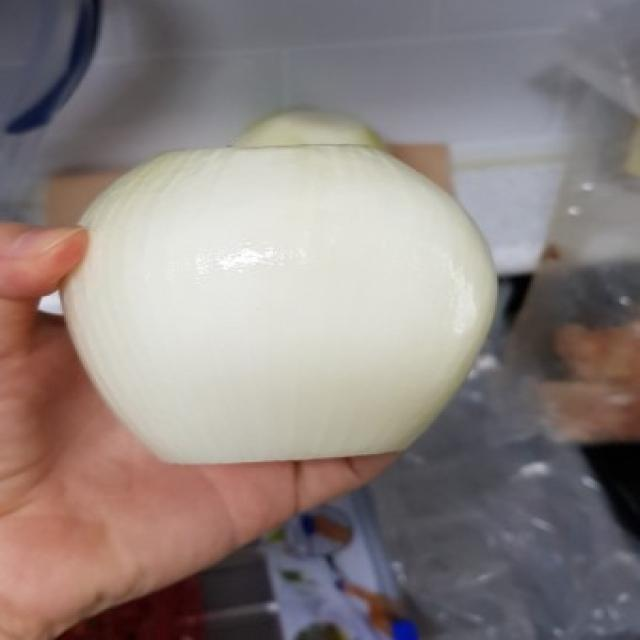onion: (51, 129, 542, 505)
